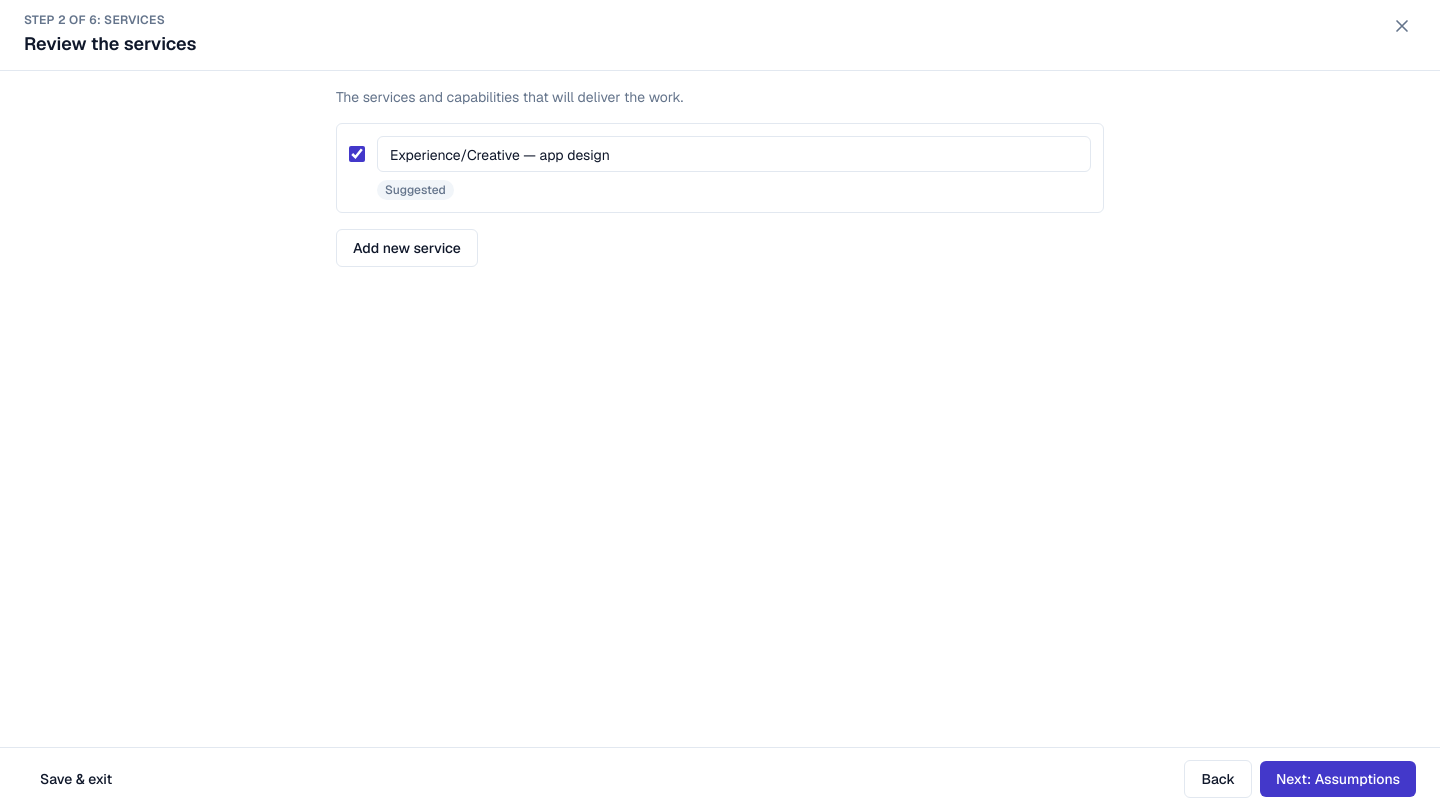
Test: SowReviewOverlay — stepping through › Back is on every step after the first and returns to the previous one; the first step has none to go to
Click the button "Back" at (1218, 779), box [1184,760,1252,798]
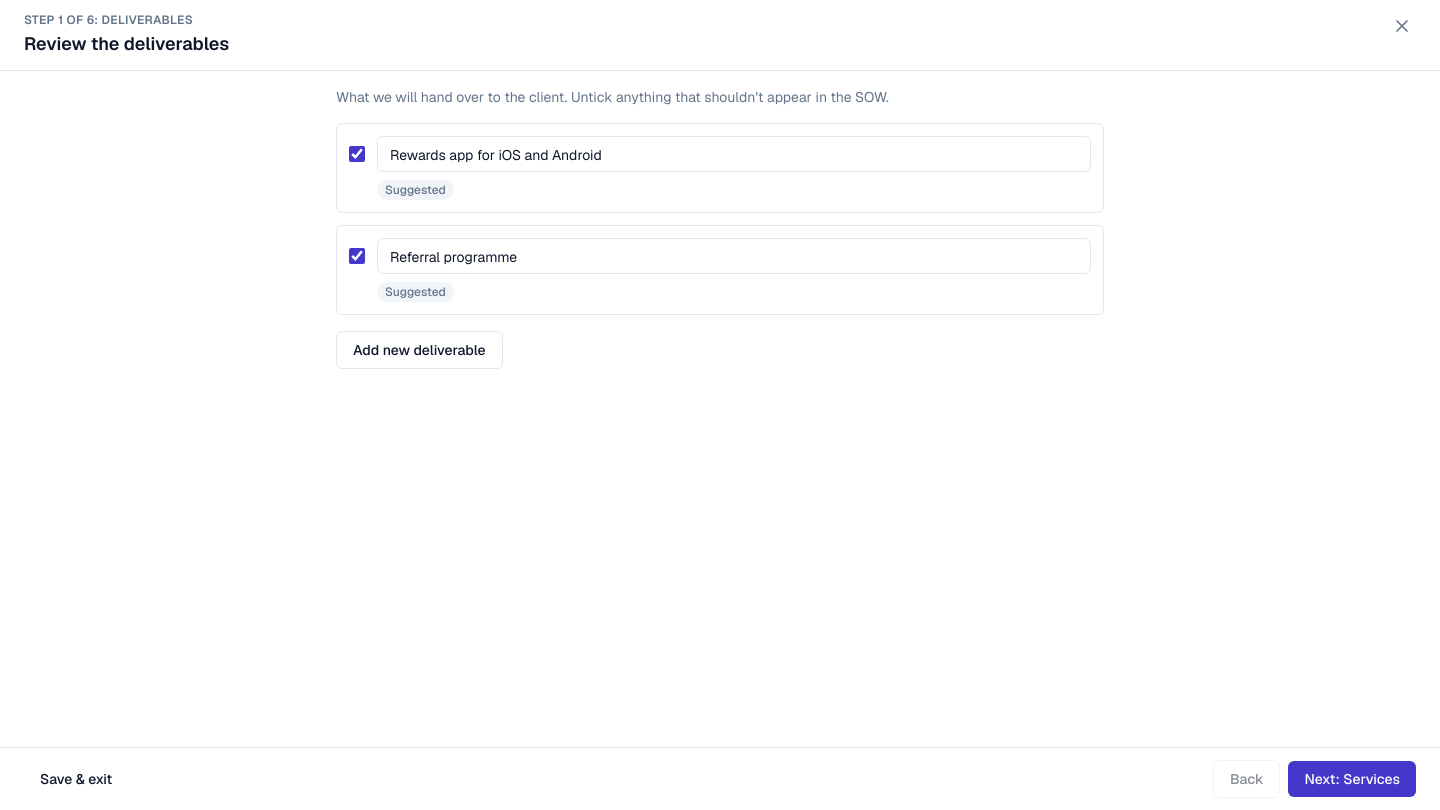
Check: the text with test id "step-indicator" reads "Step 1 of 6: Deliverables", box [24,12,193,28]
Check: the button "Back" is disabled, box [1213,760,1280,798]
